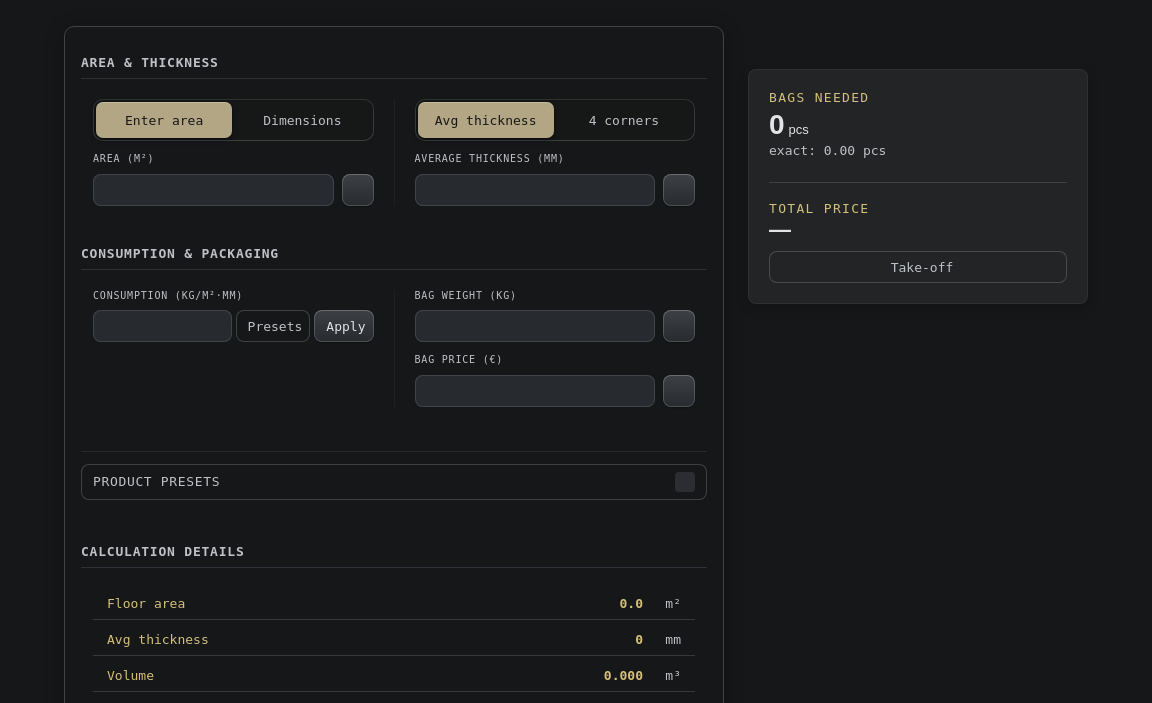
Test: the concrete page › takes area from two dimensions once the mode is switched
Click the button "Dimensions".
click(302, 120)  # box x1=234 y1=102 x2=371 y2=138
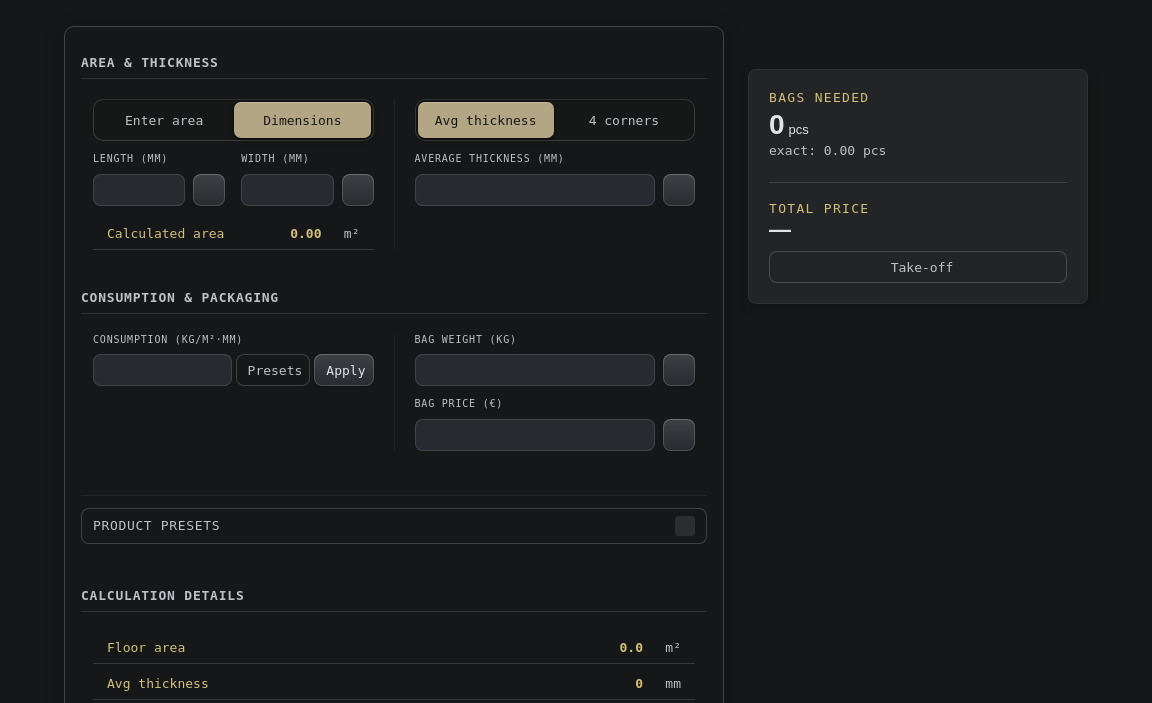
Type "5000" into the field with id "input-slf-len".
click(139, 190); type("5000")  # box x1=93 y1=174 x2=185 y2=206
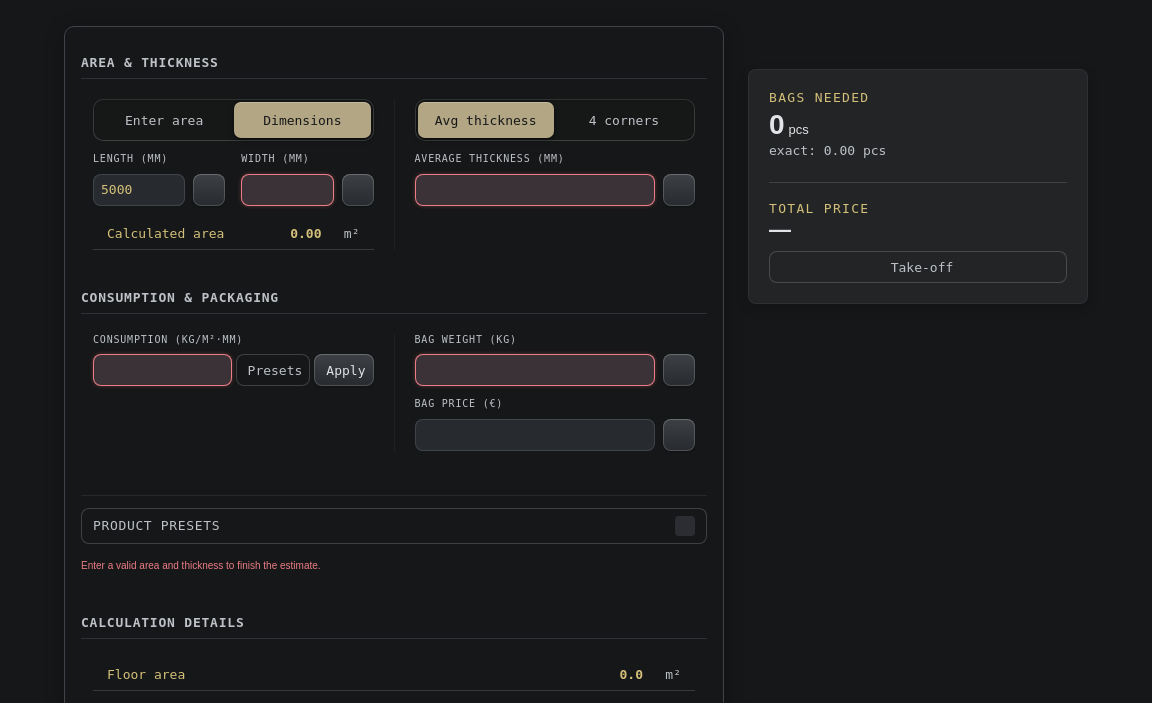
Type "4000" into the field with id "input-slf-wid".
click(287, 190); type("4000")  # box x1=241 y1=174 x2=334 y2=206
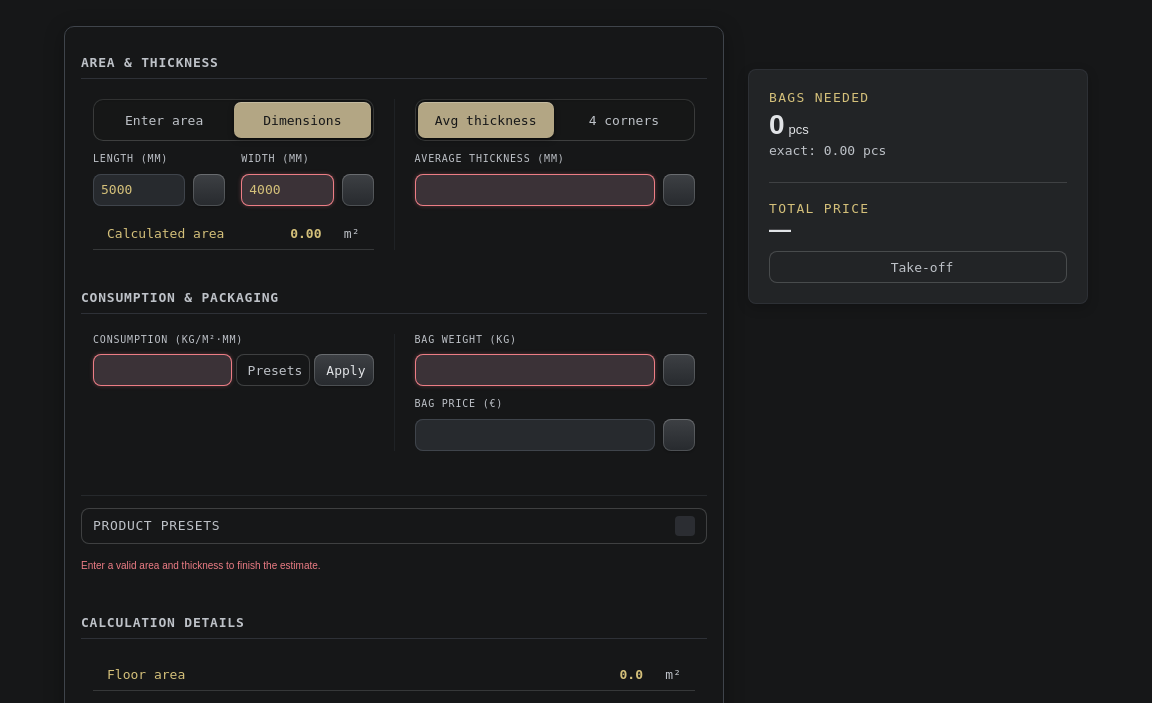
Leave the field with id "input-slf-wid", box x1=241 y1=174 x2=334 y2=206
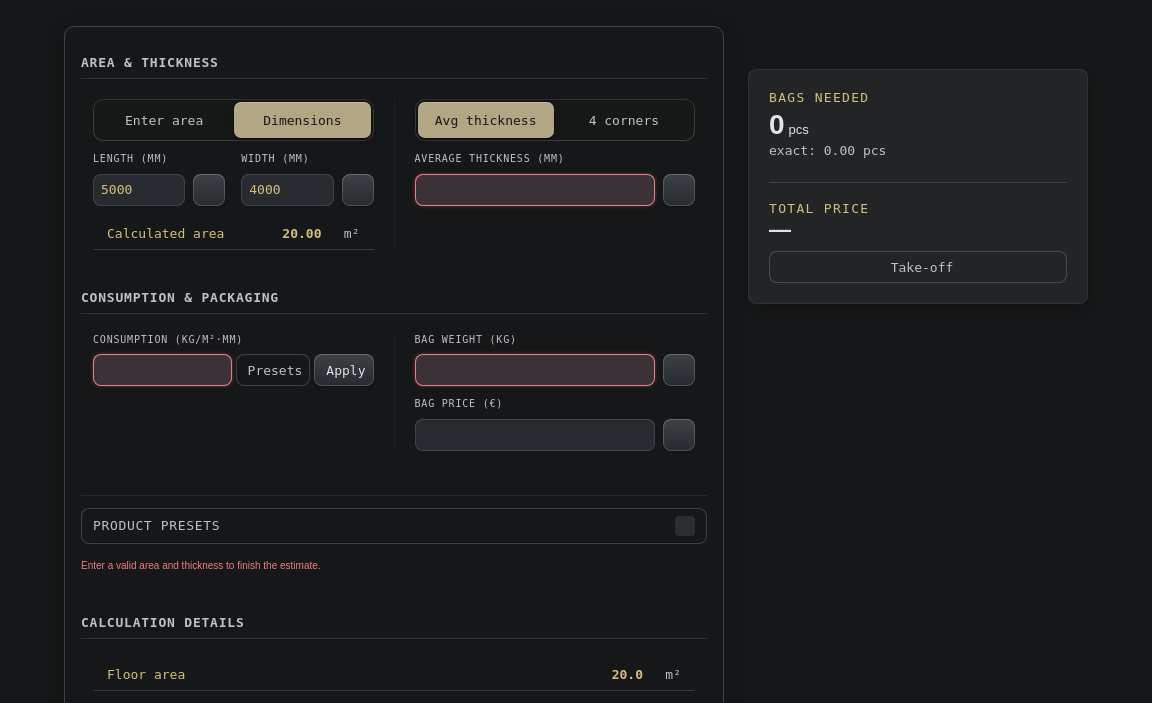
Check: the text "20.0" is shown, box x1=282 y1=226 x2=322 y2=240
